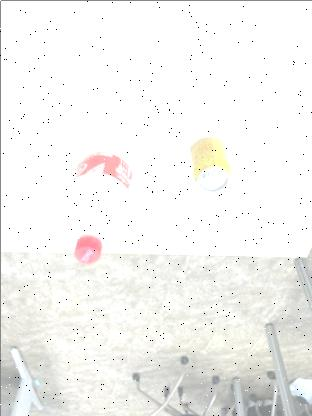Can: (187, 134, 233, 198)
Plastic Bottle: (64, 94, 138, 270)
